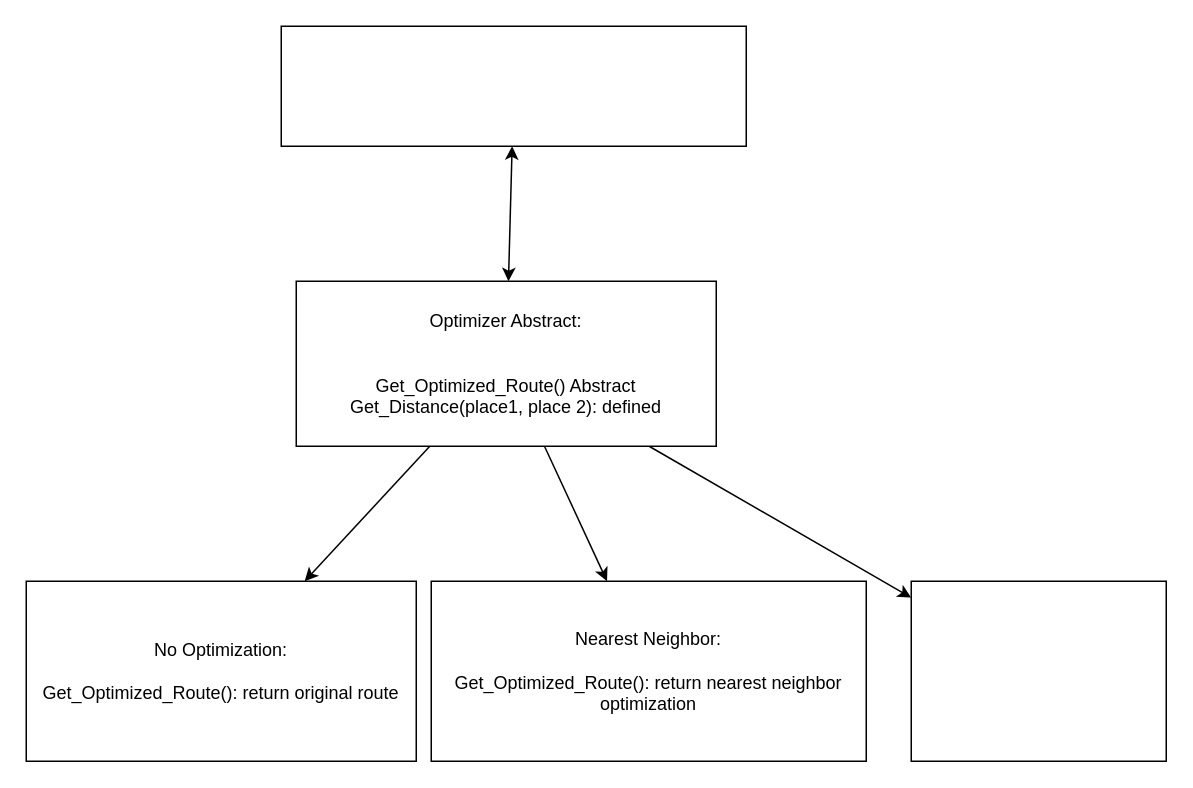
This 1193x788 diagram has some shape labels left out. The shapes that lost their labels are listed below. From the top down, each one's centre as x and y in pixels, then its label:
At point 513,85: "TIPItinerary Request".
At point 1038,670: "Potential Future Optimizations".
